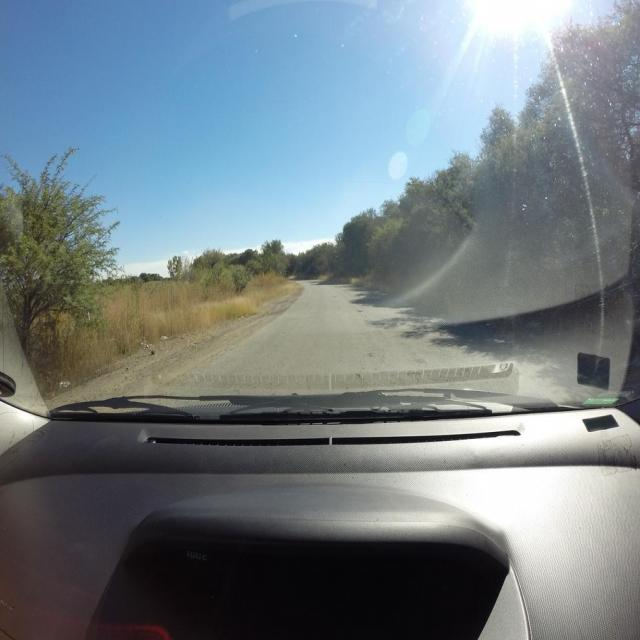Pothole: (367, 352, 374, 357), (356, 310, 364, 312), (356, 374, 360, 378), (334, 296, 336, 297)
